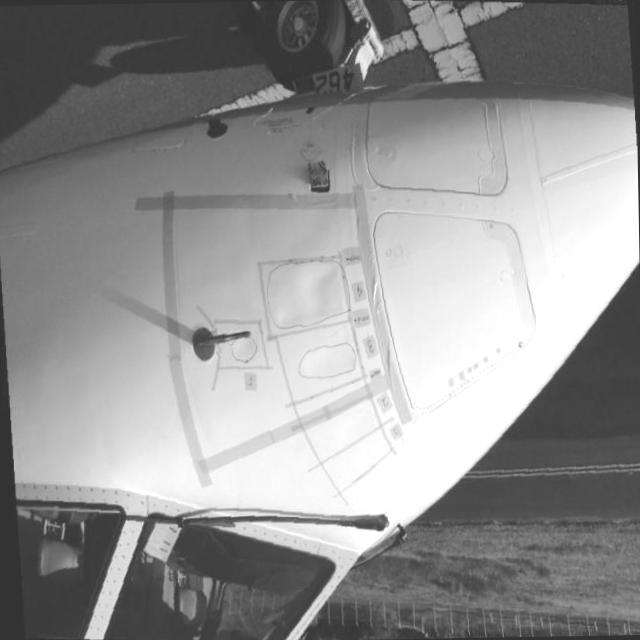dent: (273, 263, 336, 327), (300, 333, 352, 378), (230, 334, 256, 358)
